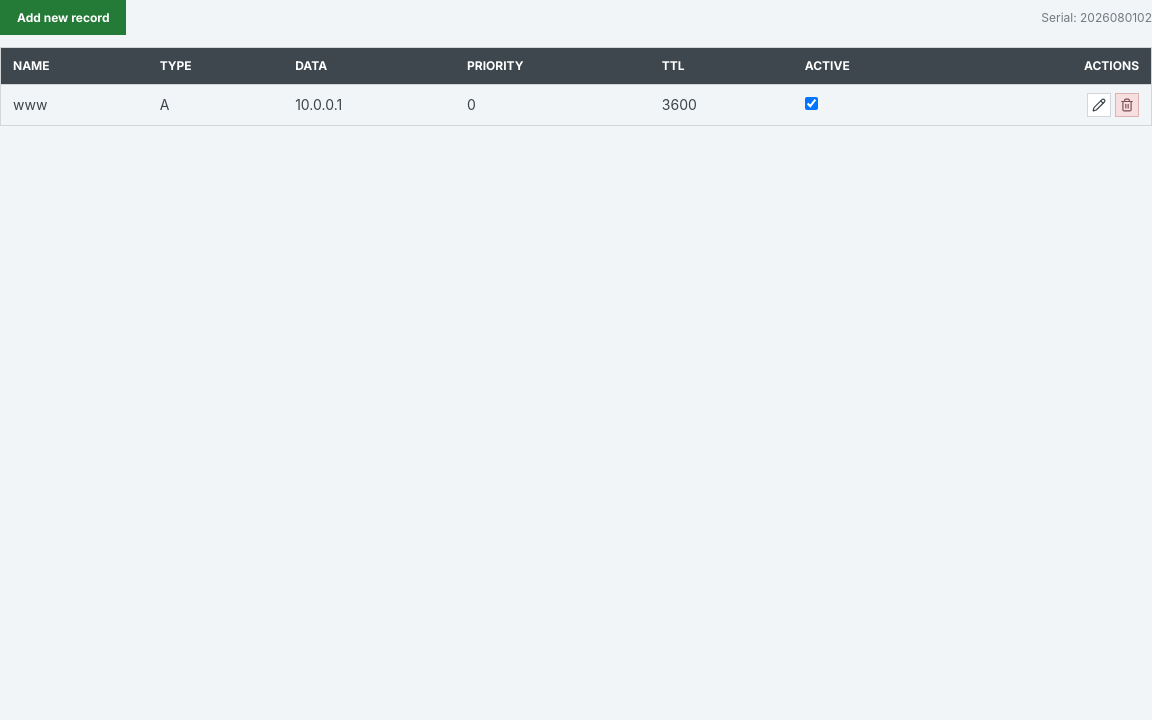
RecordGrid › validates client-side before posting
Click the button with test id "add-record" at (63, 18), box [0,0,126,35]
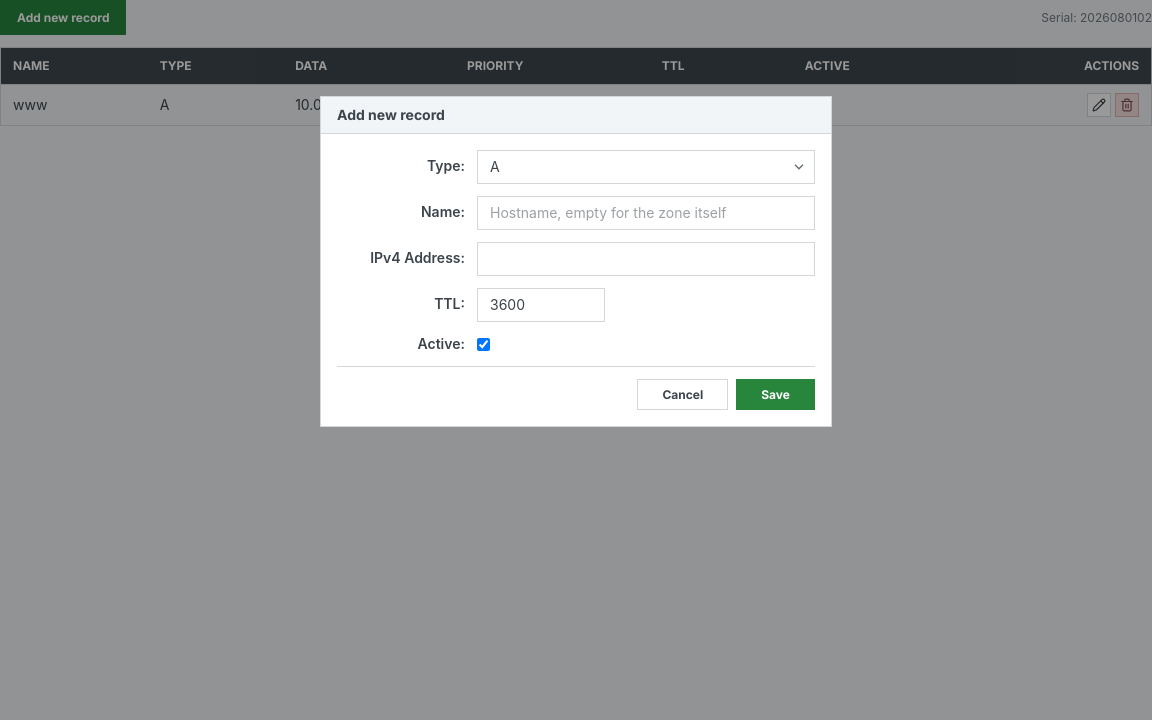
Type "not-an-ip" into the field with id "rr-data" at (646, 259), box [477,242,815,276]
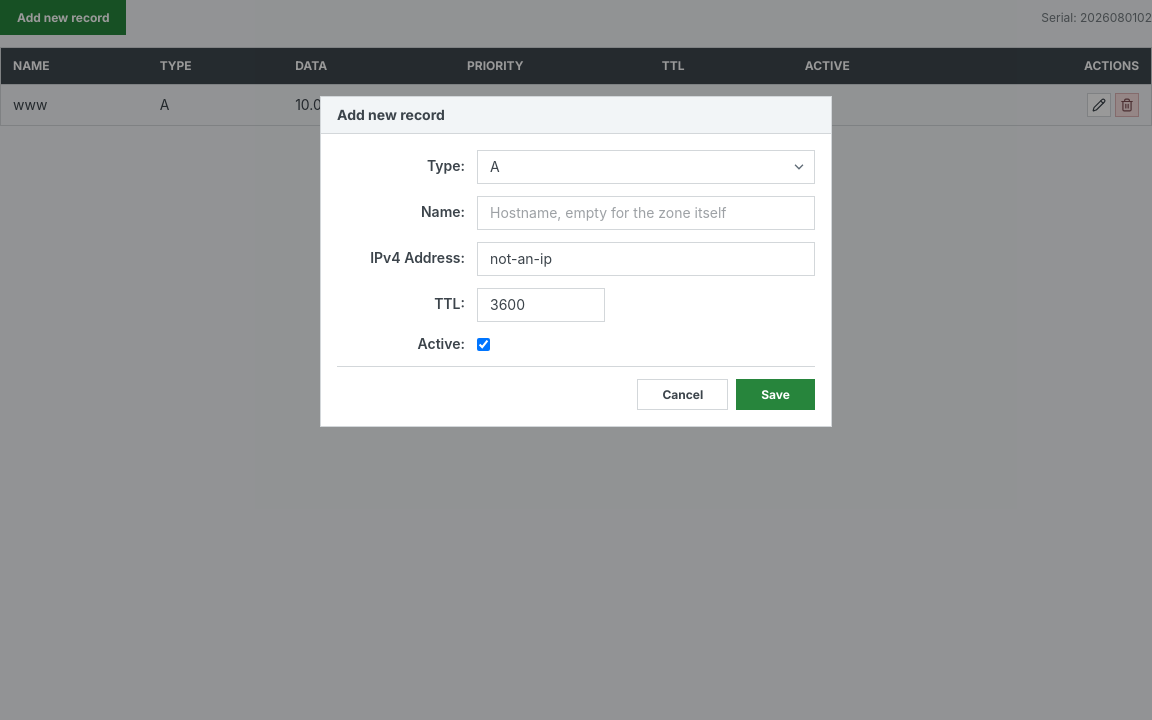
Submit the form from the button with test id "record-save", box [736,379,815,410]
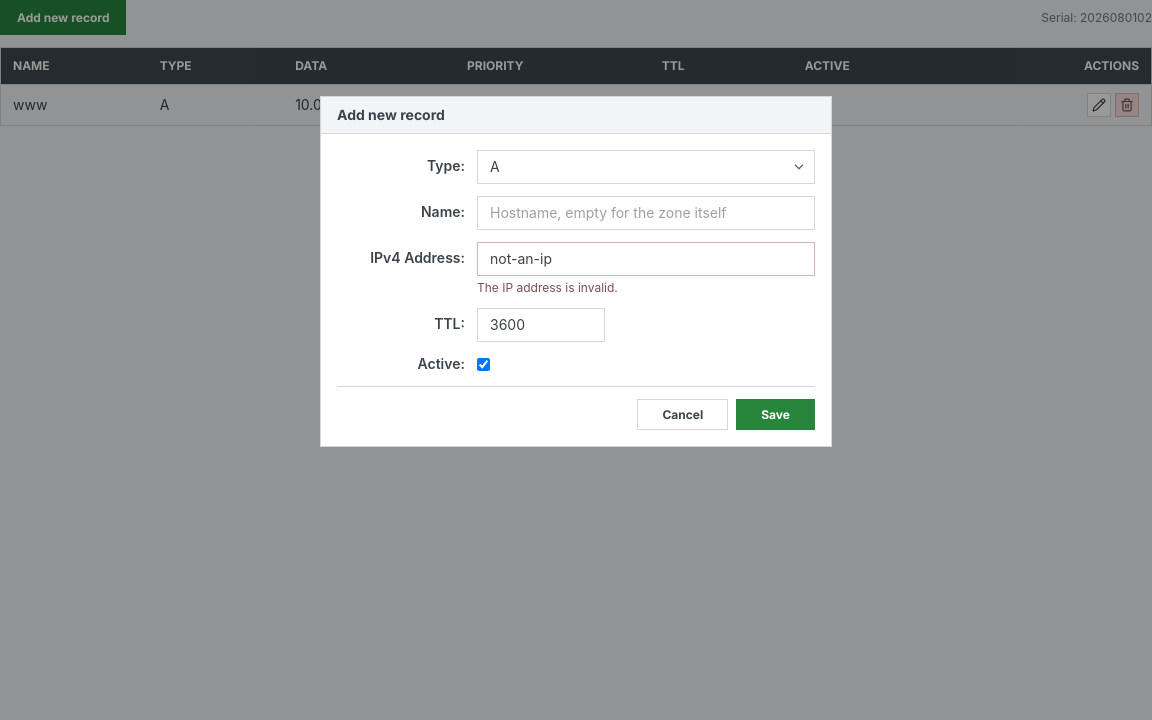
Result: the element with test id "record-dialog" shows "The IP address is invalid." at [477,280,618,295]
